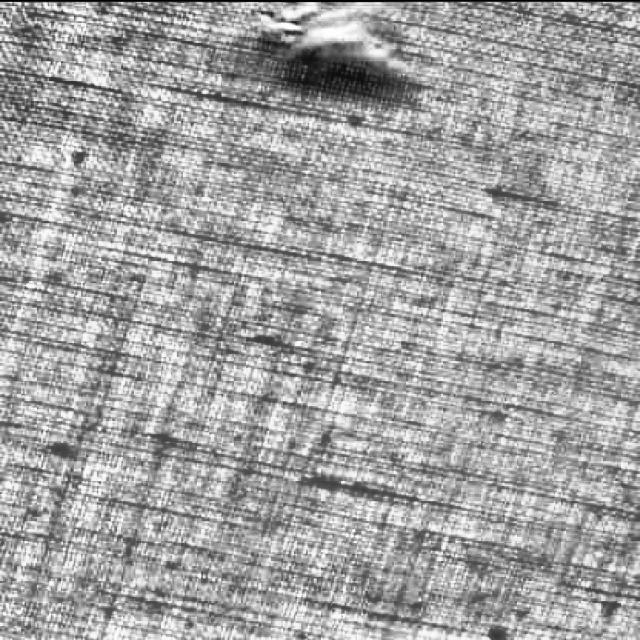objects: (237, 0, 448, 125)
